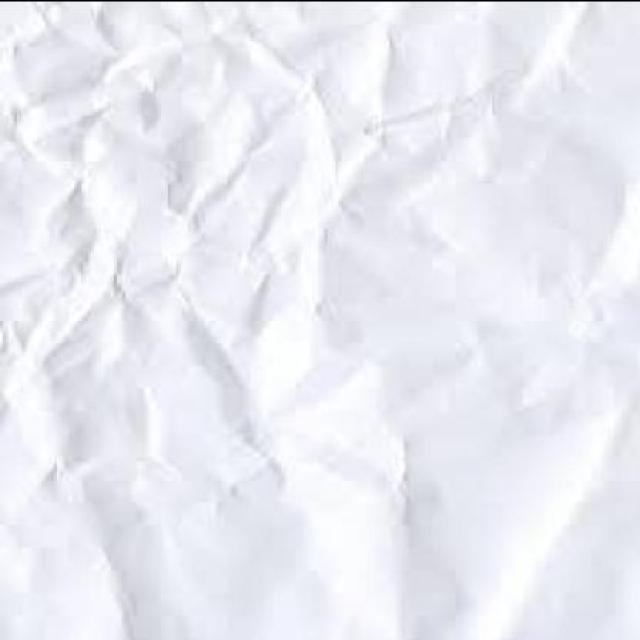PAPER: (0, 1, 638, 636)
